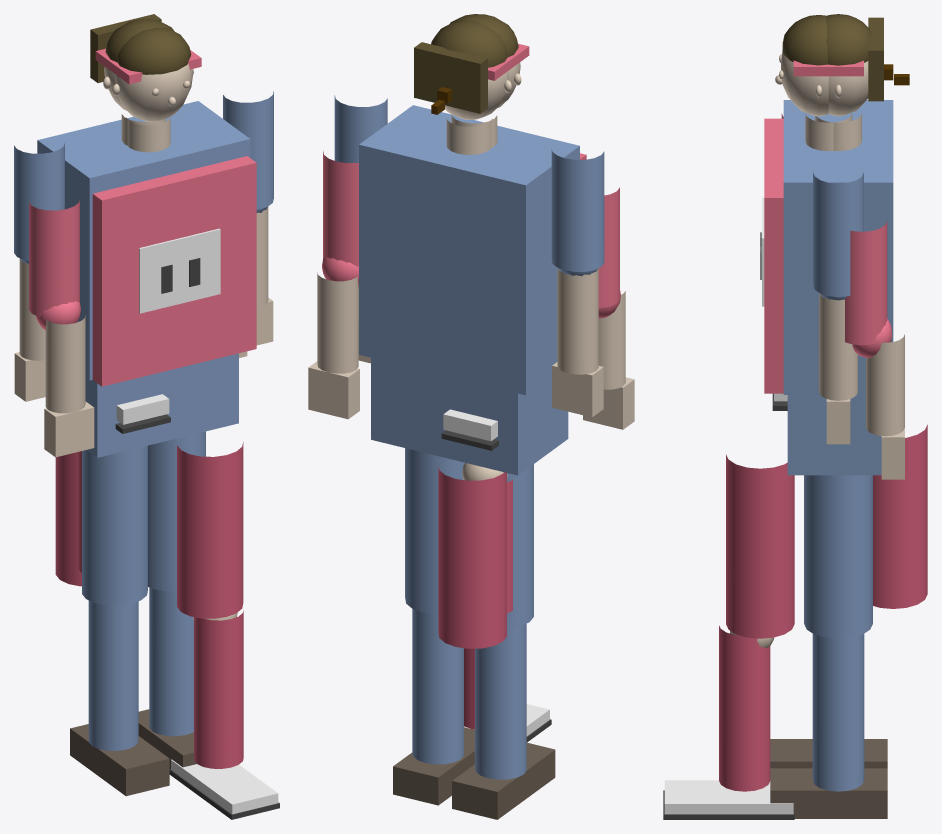
The model's file is marathon_runner.gltf.
The picture shows the model from 3 angles, left to right: view 1: azimuth 30°, elevation 25°; view 2: azimuth 150°, elevation 25°; view 3: azimuth 270°, elevation 25°; orthographic projection. The views are drawn at different scales.
Visible parts, largest first — view 1: torso (×2), thigh_R (×2), shin_R (×2), thigh_L (×2), hips, upper_arm_L (×2), shin_L, lower_arm_L (×2), foot_L (×2), bib, foot_R (×2), hair_top (×2) (+11 smaller); view 2: torso, thigh_L (×2), hips, upper_arm_L (×2), shin_L (×2), shin_R (×2), lower_arm_L (×2), upper_arm_R (×2), thigh_R, foot_L (×2), hair_back, lower_arm_R (+7 smaller); view 3: thigh_R (×2), torso (×2), shin_R (×2), upper_arm_R (×2), foot_R (×2), thigh_L, lower_arm_R (×2), hips, hair_top (×2), head (×2), hand_R (×2), foot_L (+5 smaller).
Part boxes in pixels (left/top/right/bottom): torso (×2): left=37, top=101, right=256, bottom=386; thigh_R (×2): left=148, top=431, right=243, bottom=618; shin_R (×2): left=149, top=587, right=243, bottom=768; thigh_L (×2): left=55, top=445, right=147, bottom=605; hips: left=85, top=353, right=238, bottom=457; upper_arm_L (×2): left=14, top=143, right=79, bottom=316; shin_L: left=88, top=600, right=138, bottom=750; lower_arm_L (×2): left=19, top=258, right=85, bottom=413; foot_L (×2): left=70, top=394, right=169, bottom=796; bib: left=139, top=228, right=220, bottom=313; foot_R (×2): left=138, top=709, right=278, bottom=814; hair_top (×2): left=105, top=19, right=191, bottom=74; torso: left=359, top=105, right=579, bottom=395; thigh_L (×2): left=438, top=464, right=533, bottom=648; hips: left=371, top=357, right=568, bottom=475; upper_arm_L (×2): left=551, top=149, right=619, bottom=308; shin_L (×2): left=475, top=479, right=526, bottom=779; shin_R (×2): left=412, top=609, right=474, bottom=764; lower_arm_L (×2): left=557, top=268, right=625, bottom=389; upper_arm_R (×2): left=323, top=95, right=387, bottom=266; thigh_R: left=405, top=448, right=464, bottom=614; foot_L (×2): left=443, top=409, right=555, bottom=819; hair_back: left=414, top=42, right=487, bottom=113; lower_arm_R: left=317, top=272, right=358, bottom=373; thigh_R (×2): left=726, top=454, right=872, bottom=638; torso (×2): left=764, top=100, right=893, bottom=394; shin_R (×2): left=719, top=625, right=864, bottom=791; upper_arm_R (×2): left=813, top=172, right=887, bottom=345; foot_R (×2): left=664, top=768, right=887, bottom=818; thigh_L: left=873, top=424, right=927, bottom=608; lower_arm_R (×2): left=819, top=294, right=904, bottom=436; hips: left=787, top=395, right=881, bottom=475; hair_top (×2): left=782, top=14, right=870, bottom=65; head (×2): left=781, top=50, right=868, bottom=116; hand_R (×2): left=826, top=399, right=904, bottom=479; foot_L: left=770, top=739, right=887, bottom=768.
Bounding box in the file's own units: 0.6698 × 1.86 × 0.5746.
